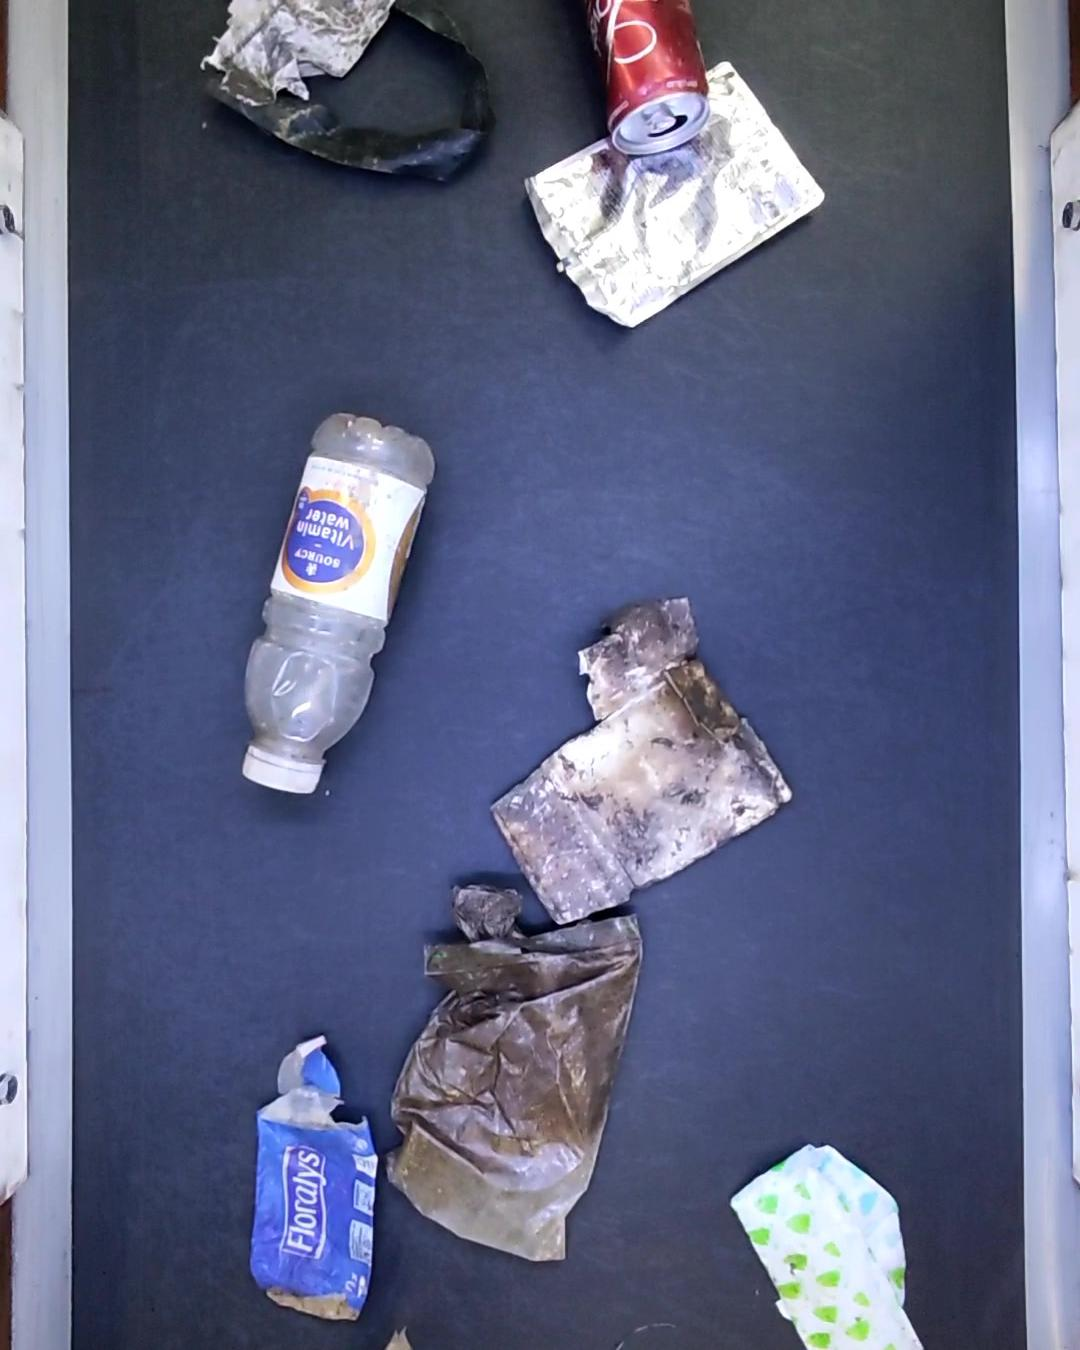Drankblikjes: (595, 0, 700, 149)
Drankflessen - 1-2 liter: (237, 404, 445, 799)
Plastic folies of stukken daarvan 2.5- 50 cm: (377, 861, 646, 1268)
